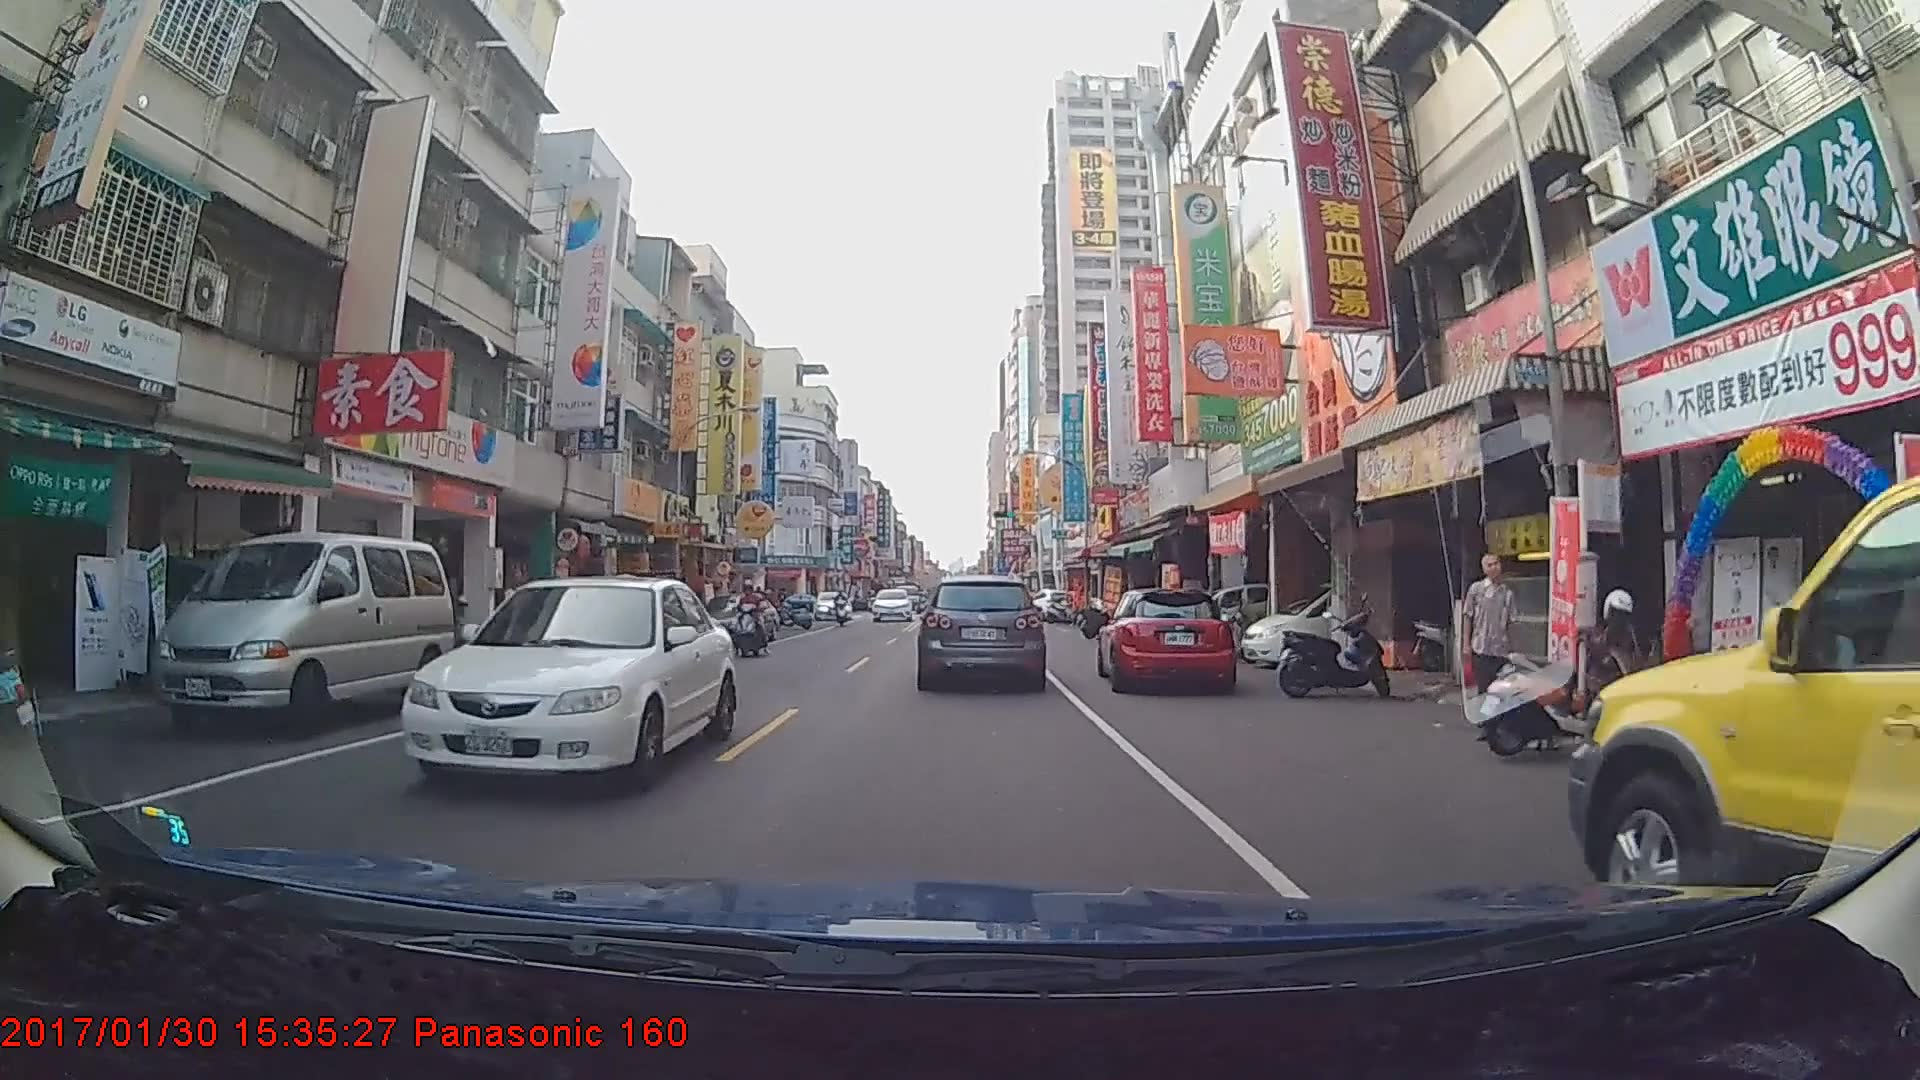pedestrian: (1464, 554, 1524, 742)
rider: (731, 578, 778, 654)
vehicle: (1566, 436, 1919, 994), (390, 569, 736, 797), (147, 529, 455, 736), (1099, 584, 1237, 693), (920, 573, 1044, 688), (688, 593, 777, 649), (869, 583, 912, 617), (812, 589, 852, 620)
